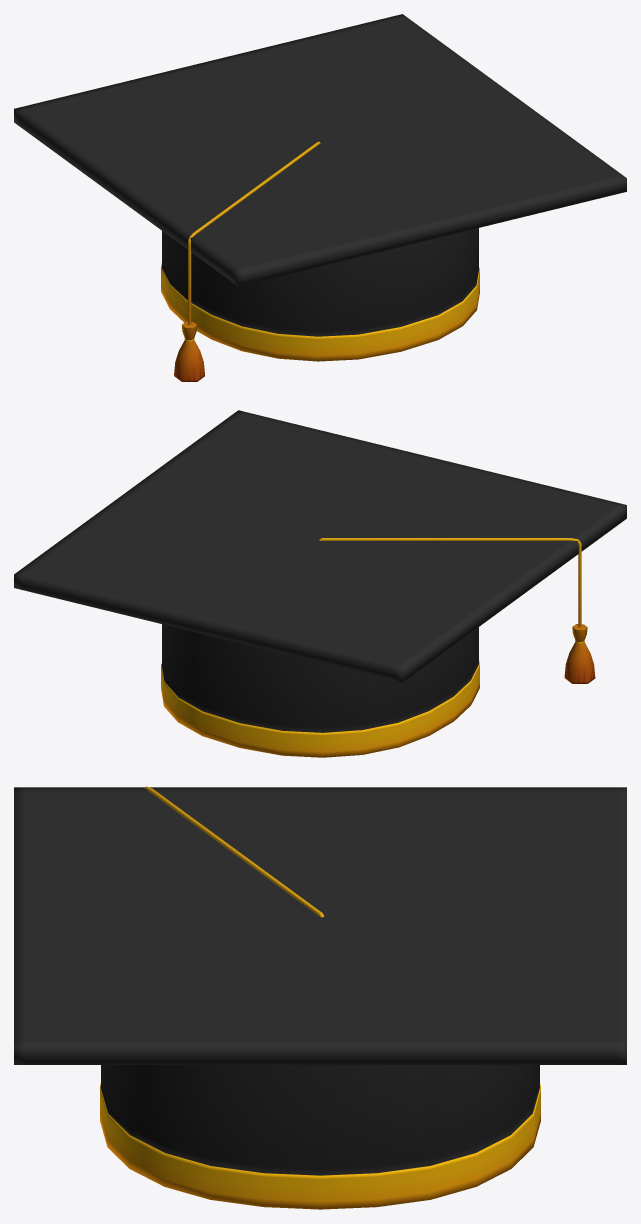
The model's file is GraduationCap.FBX.
The picture shows the model from 3 angles, top to bottom: view 1: azimuth 30°, elevation 25°; view 2: azimuth 150°, elevation 25°; view 3: azimuth 270°, elevation 25°; orthographic projection. The views are drawn at different scales.
Visible parts, largest first — view 1: GraduationCap; view 2: GraduationCap; view 3: GraduationCap.
Part boxes in pixels (x1=…): GraduationCap: x1=14, y1=14, x2=626, y2=381; GraduationCap: x1=14, y1=410, x2=626, y2=757; GraduationCap: x1=14, y1=786, x2=626, y2=1209.
Bounding box in the file's own units: 48.76 × 17.9 × 47.24.
Materials: 1 (1 with a texture image).
